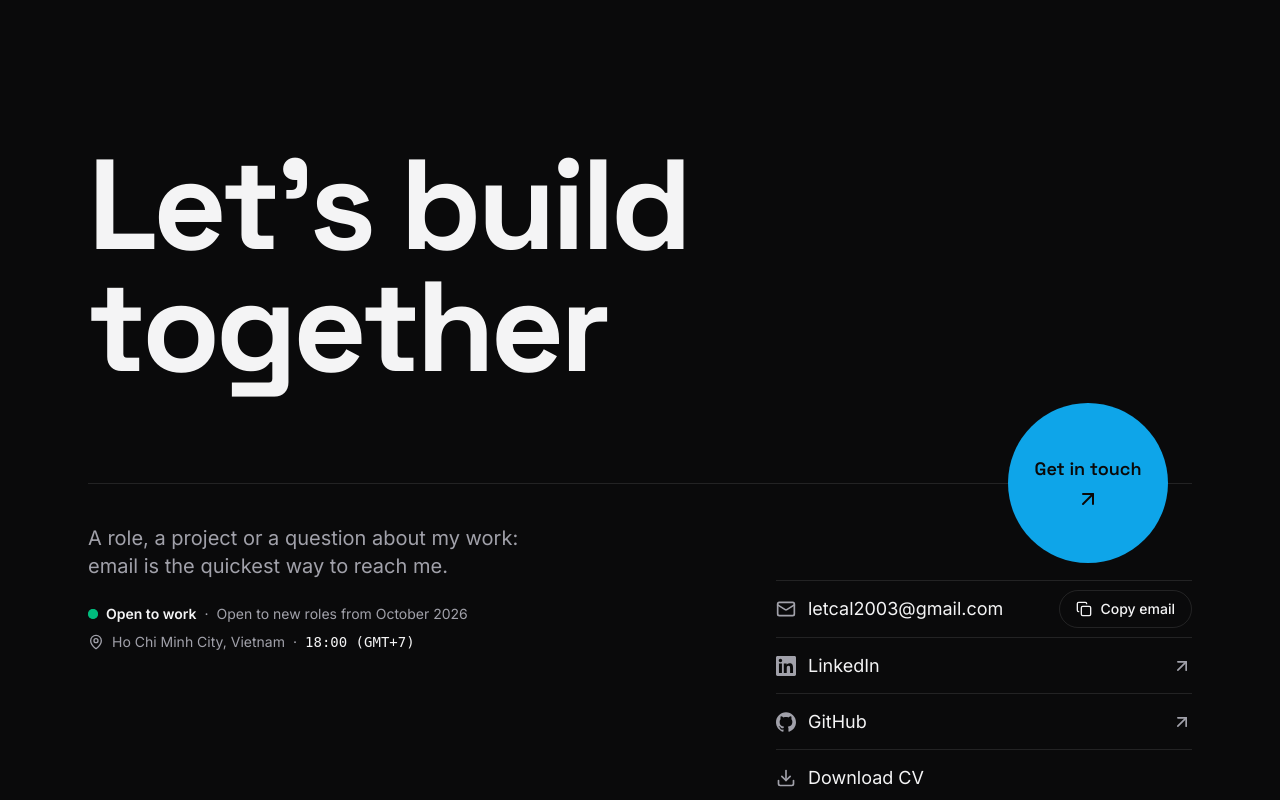
Scenario: Contact section › copies the email, then shows the Copied toast
Click the button "Copy email". click: (1126, 609)
box: [1059,590,1192,628]
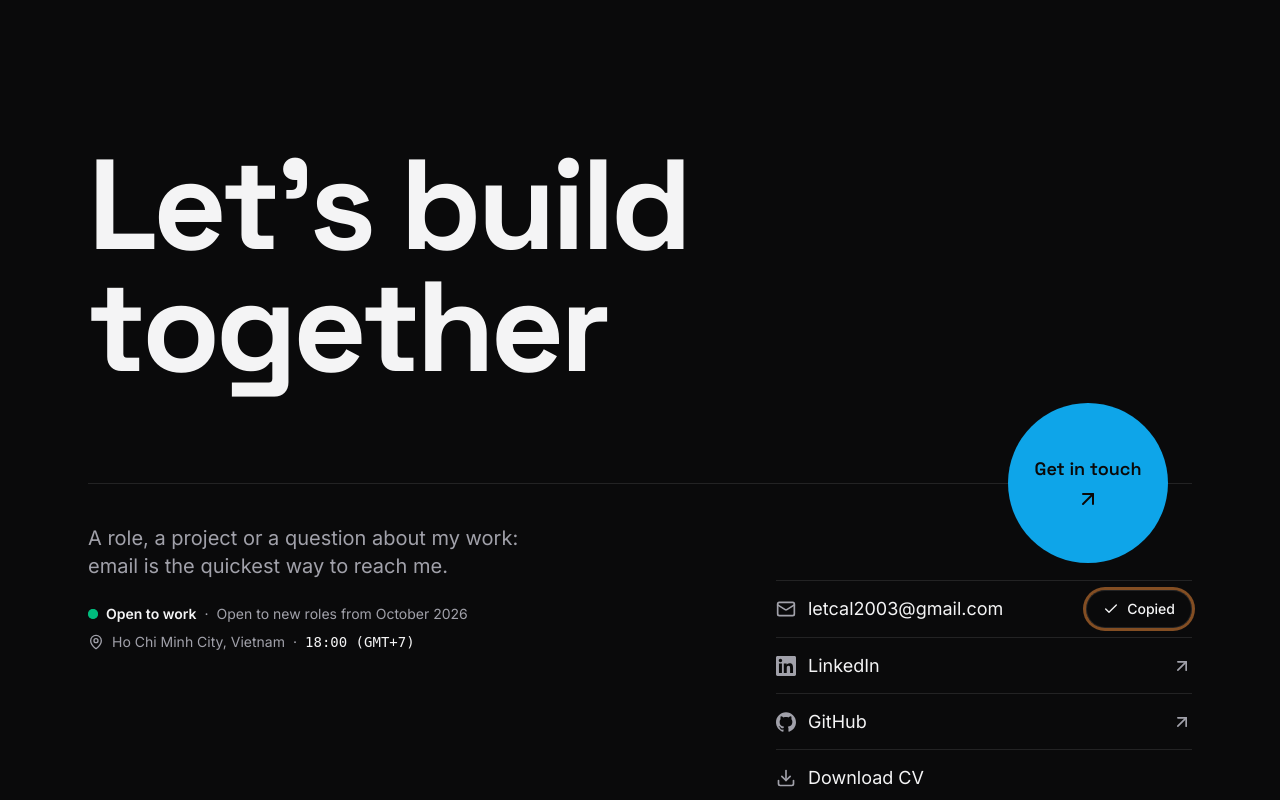
Now the text "Copied" is shown, box [1127,599,1175,619]
